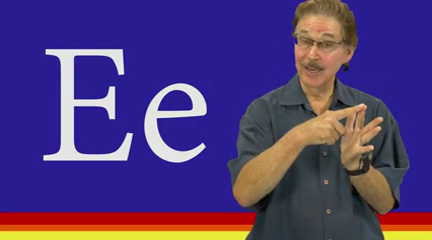E: (294, 100, 386, 167)
